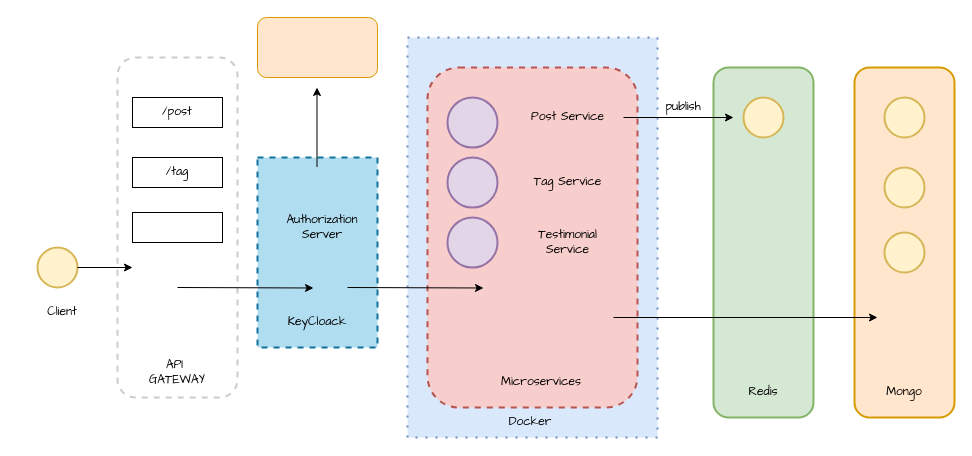
The diagram is 972 pixels wide and 456 high, and some of its shapes have lost their labels. Here are the shapes that lost their labels. From the top down, the box of each, then its label:
(256, 16, 378, 78): H2
(132, 212, 222, 242): /testimonial
